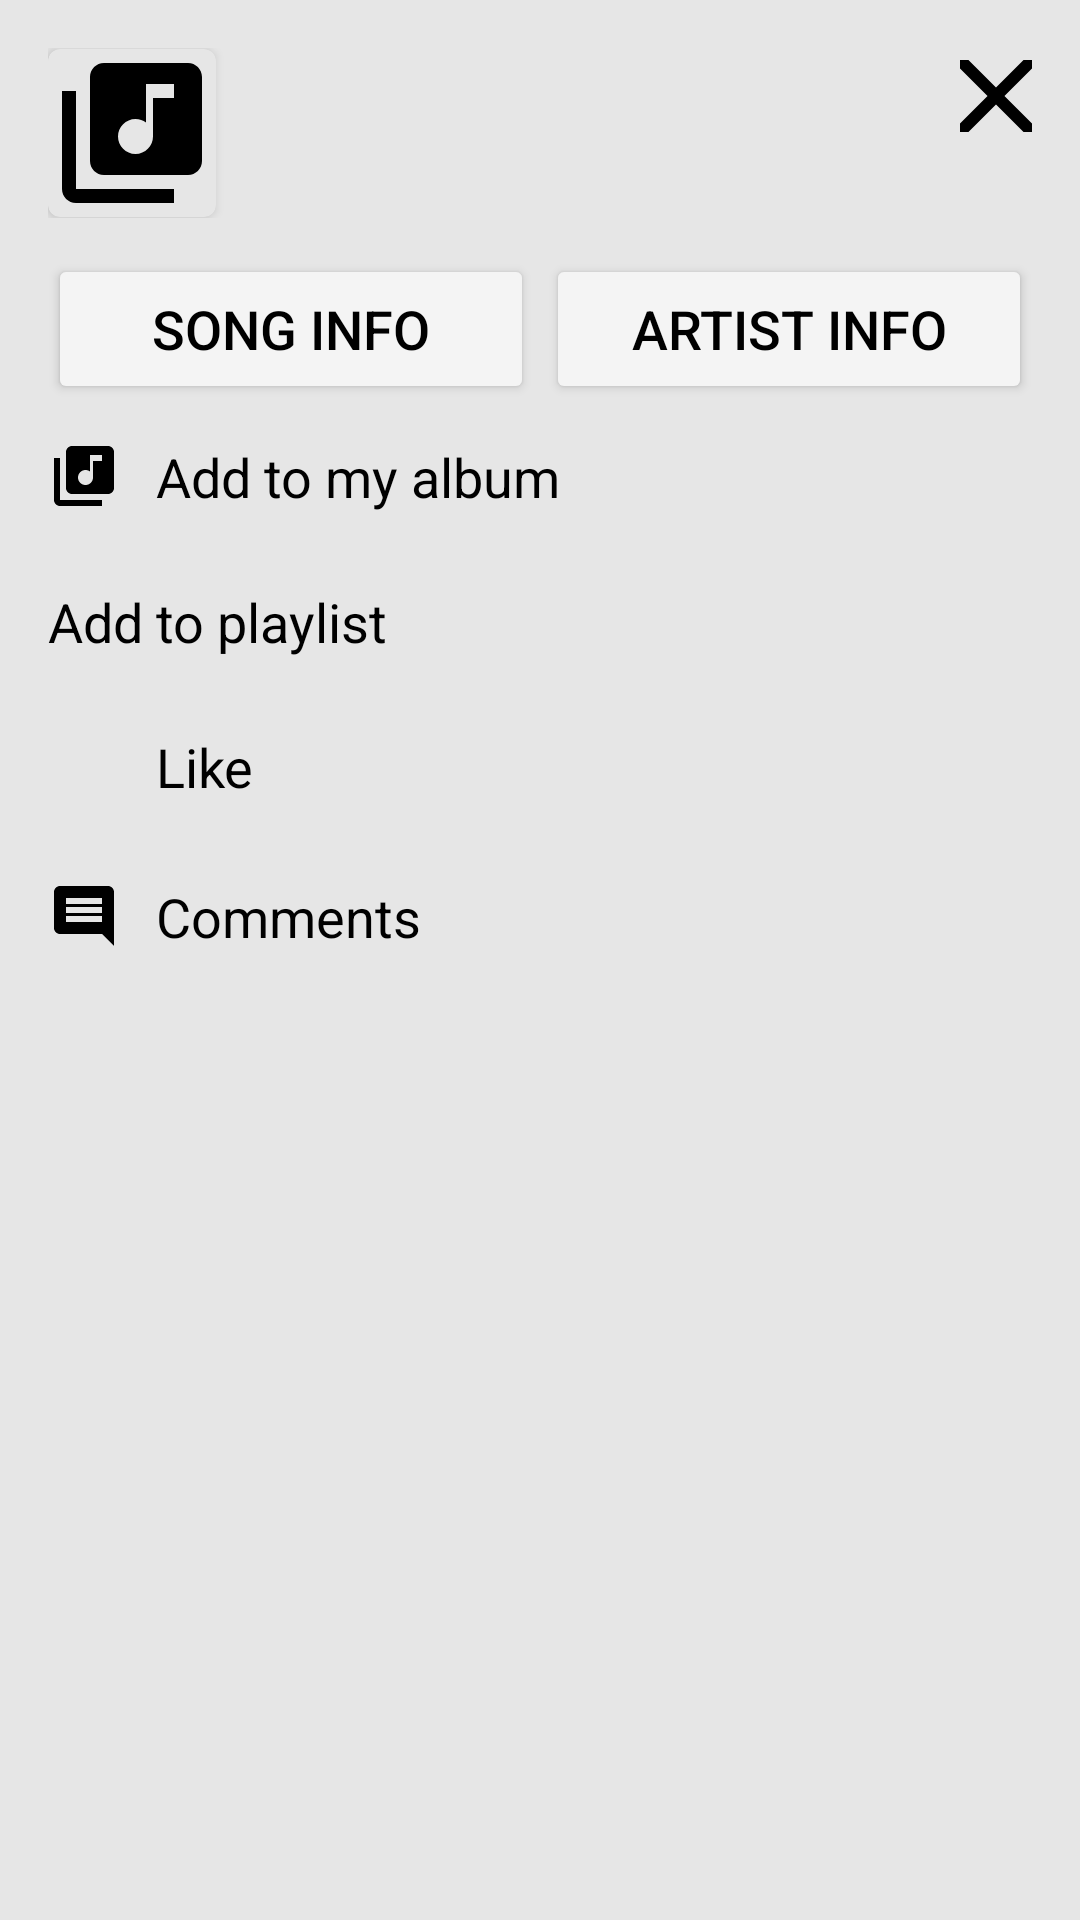

Icons on this 1080px×1920px Android screen, each with the point to tap as (x=x, y=y):
clear: (x=996, y=96)
library music: (x=132, y=133)
